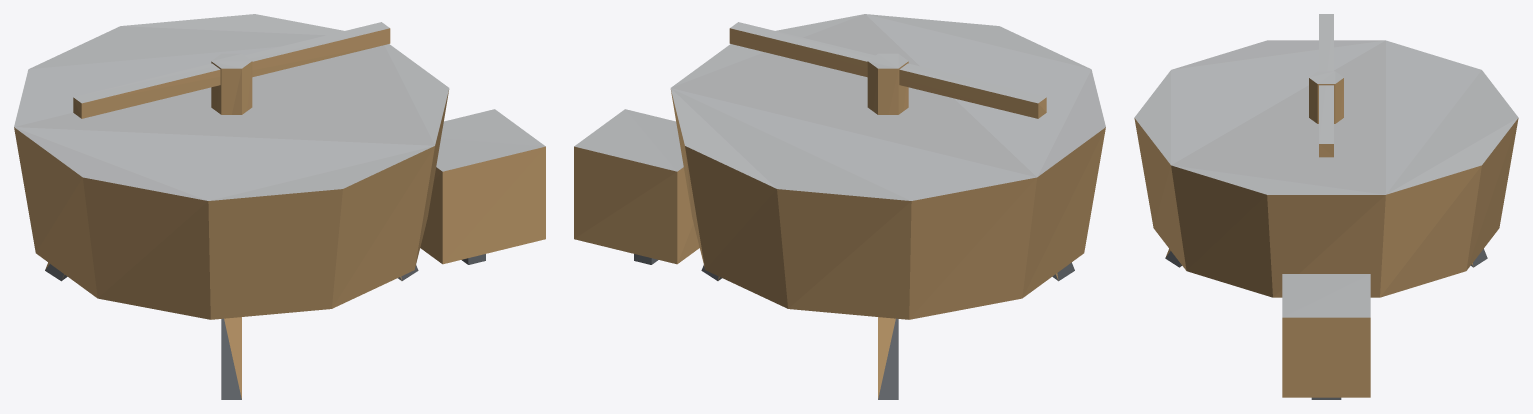
File: sandcrete-mixer-00.glb
The picture shows the model from 3 angles, left to right: view 1: azimuth 30°, elevation 25°; view 2: azimuth 150°, elevation 25°; view 3: azimuth 270°, elevation 25°; orthographic projection. The views are drawn at different scales.
Parts seen in each view (by area): view 1: sandcrete_mixer_00; view 2: sandcrete_mixer_00; view 3: sandcrete_mixer_00.
Boxes of the visible parts, x1=… form: sandcrete_mixer_00: x1=14, y1=14, x2=545, y2=399; sandcrete_mixer_00: x1=574, y1=14, x2=1105, y2=399; sandcrete_mixer_00: x1=1134, y1=14, x2=1518, y2=399.
Bounding box in the file's own units: 1.6 × 0.8311 × 1.31.
